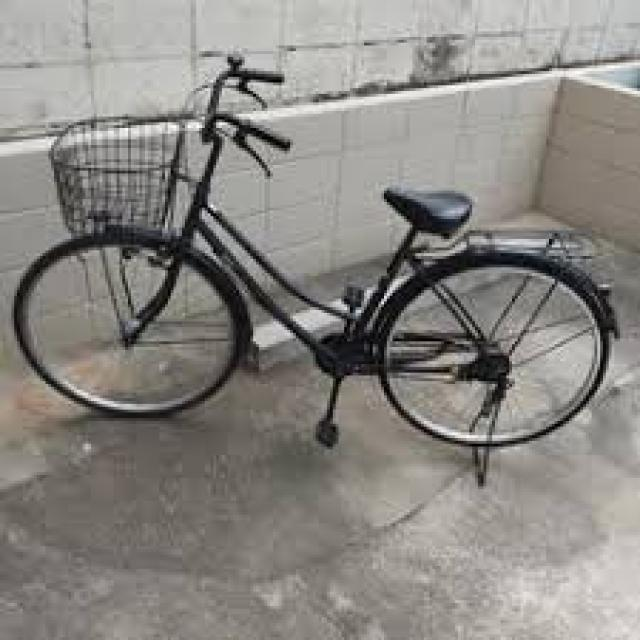basket: (50, 113, 189, 242)
